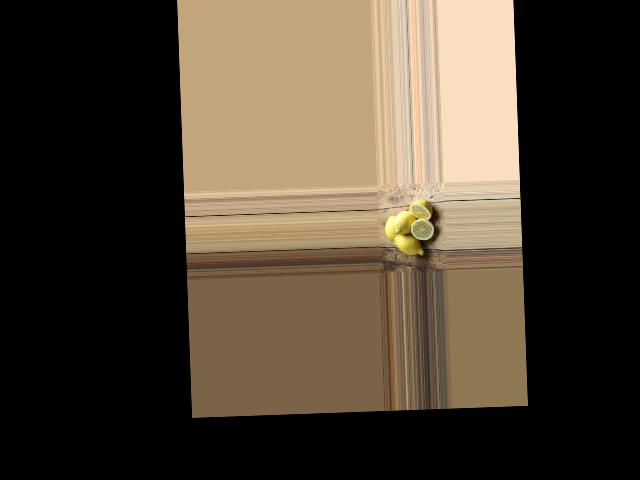lemon: (392, 232, 425, 259)
